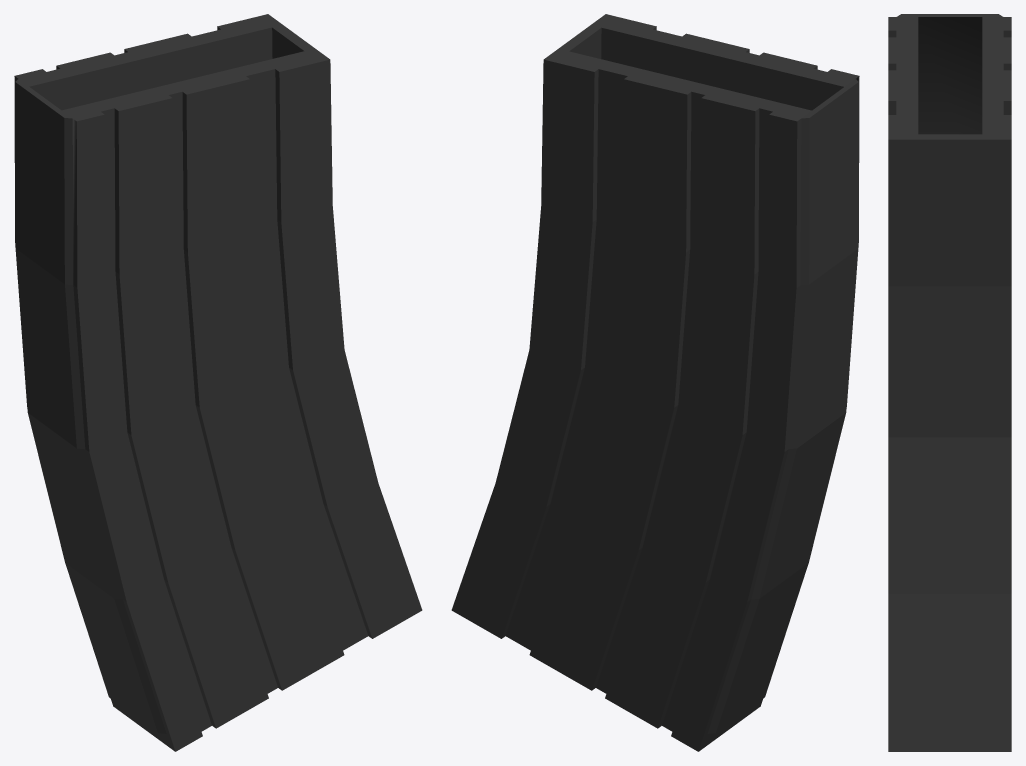
Rendered from SM_Weapon_02_2.fbx.
3 views of the same model, side by side, from view 1: azimuth 30°, elevation 25°; view 2: azimuth 150°, elevation 25°; view 3: azimuth 270°, elevation 25° (orthographic).
Parts seen in each view (by area): view 1: SM_Weapon_02_2; view 2: SM_Weapon_02_2; view 3: SM_Weapon_02_2.
Boxes of the visible parts, <box> form: SM_Weapon_02_2: <box>14,14,422,751</box>; SM_Weapon_02_2: <box>451,14,859,751</box>; SM_Weapon_02_2: <box>888,14,1011,751</box>.
Bounding box in the file's own units: 0.0993 × 0.1767 × 0.0305.
1 material, 1 textured.
